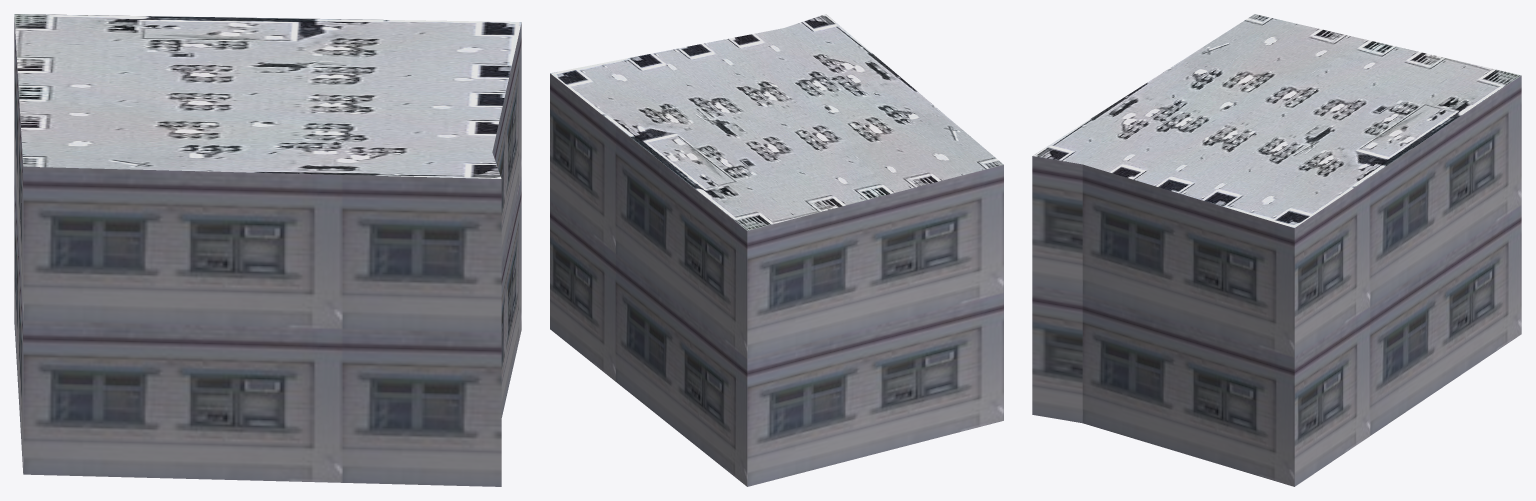
The model's file is ResTex__4084.fbx.
The picture shows the model from 3 angles, left to right: view 1: azimuth 30°, elevation 25°; view 2: azimuth 150°, elevation 25°; view 3: azimuth 270°, elevation 25°; orthographic projection. The views are drawn at different scales.
Parts seen in each view (by area): view 1: CityEngineMaterial_1_m, CityEngineMaterial_4_m; view 2: CityEngineMaterial_1_m, CityEngineMaterial_4_m; view 3: CityEngineMaterial_1_m, CityEngineMaterial_4_m.
Part boxes in pixels (left/top/right/bottom): CityEngineMaterial_1_m: left=14, top=17, right=521, bottom=486; CityEngineMaterial_4_m: left=14, top=14, right=521, bottom=178; CityEngineMaterial_1_m: left=550, top=73, right=1003, bottom=486; CityEngineMaterial_4_m: left=550, top=14, right=1003, bottom=230; CityEngineMaterial_1_m: left=1032, top=75, right=1521, bottom=486; CityEngineMaterial_4_m: left=1033, top=14, right=1521, bottom=227.
Bounding box in the file's own units: 10.65 × 6 × 10.28.
2 materials, 2 textured.
